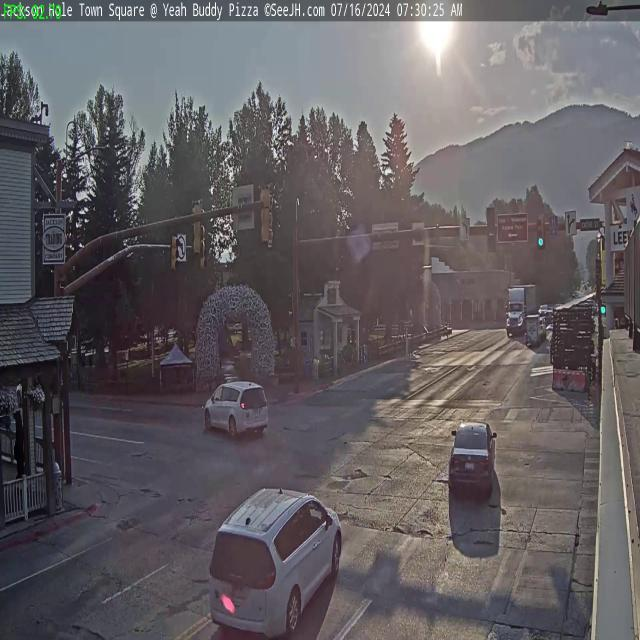minivan: (208, 480, 344, 639)
sedan: (447, 420, 498, 498)
suv: (202, 376, 269, 442)
traffic light: (260, 184, 273, 246), (190, 200, 203, 256), (170, 231, 180, 274), (487, 208, 496, 252), (536, 215, 546, 248)
truck: (506, 281, 538, 338)
